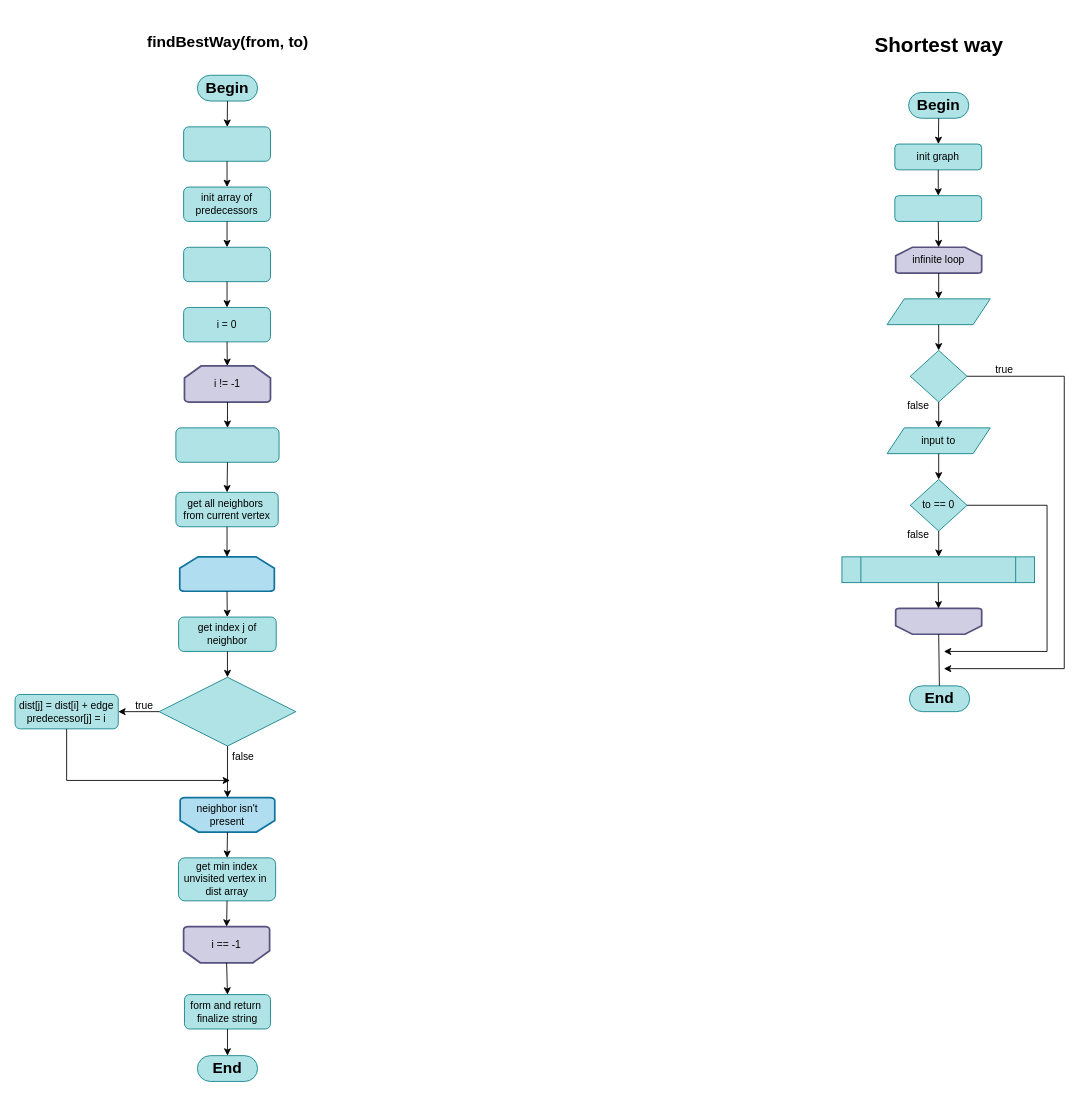
The diagram is 1086 pixels wide and 1105 high, and some of its shapes have lost their labels. The box of each missing label's shape, as (x1, y1, x2, y2) in pixels:
!visited[j] && dist[i] + edge < dist[j]: (158, 676, 296, 746)
from == 0: (909, 350, 967, 402)
graph.findBestWay(from, to): (841, 556, 1035, 583)
init array of distances: (183, 126, 270, 161)
init array of visited: (183, 246, 270, 282)
input from: (886, 298, 990, 325)
neighbor is present: (178, 556, 275, 592)
show verticies: (894, 195, 982, 221)
visited[i] = true: (175, 427, 279, 462)
